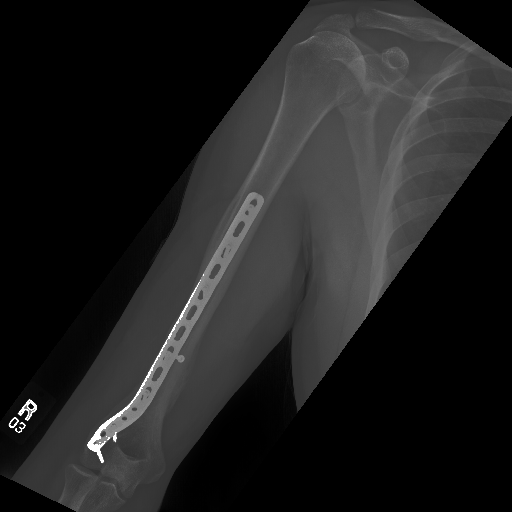implant: (86, 189, 269, 465)
